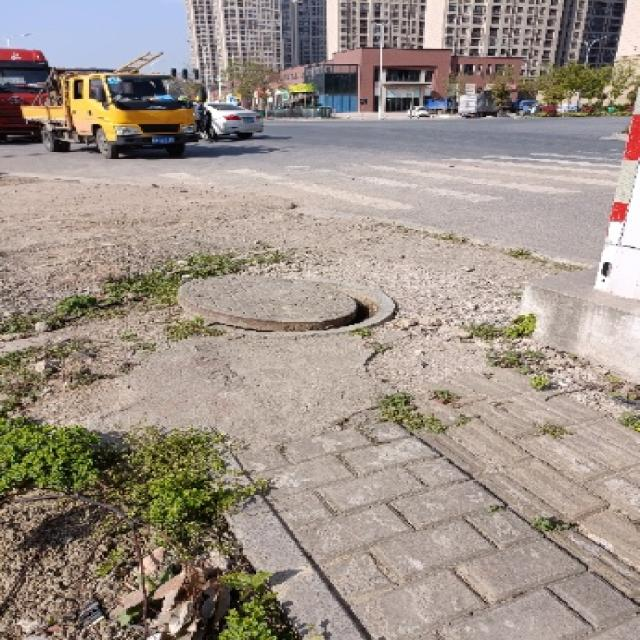Lose: (162, 265, 409, 345)
